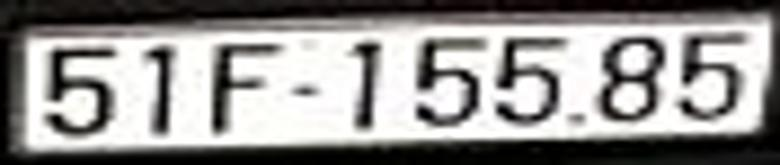-: (289, 79, 322, 98)
.: (569, 107, 587, 130)
1: (345, 36, 381, 132), (144, 40, 177, 140)
5: (415, 35, 487, 131), (46, 47, 120, 138), (680, 32, 747, 122), (496, 35, 561, 126)
8: (599, 37, 667, 120)
F: (206, 38, 285, 134)
